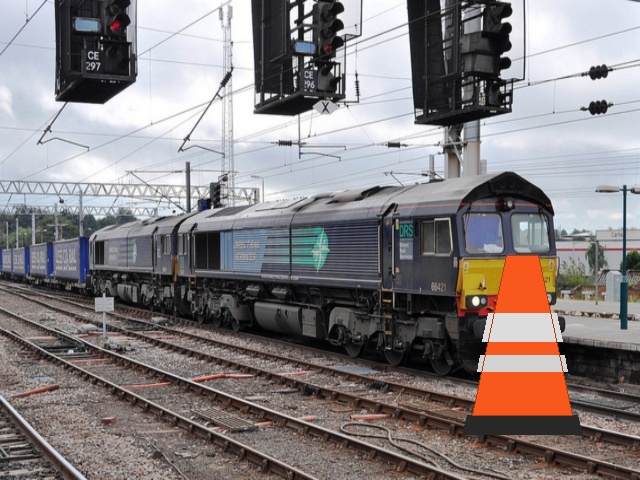traffic-cone: (462, 255, 582, 434)
